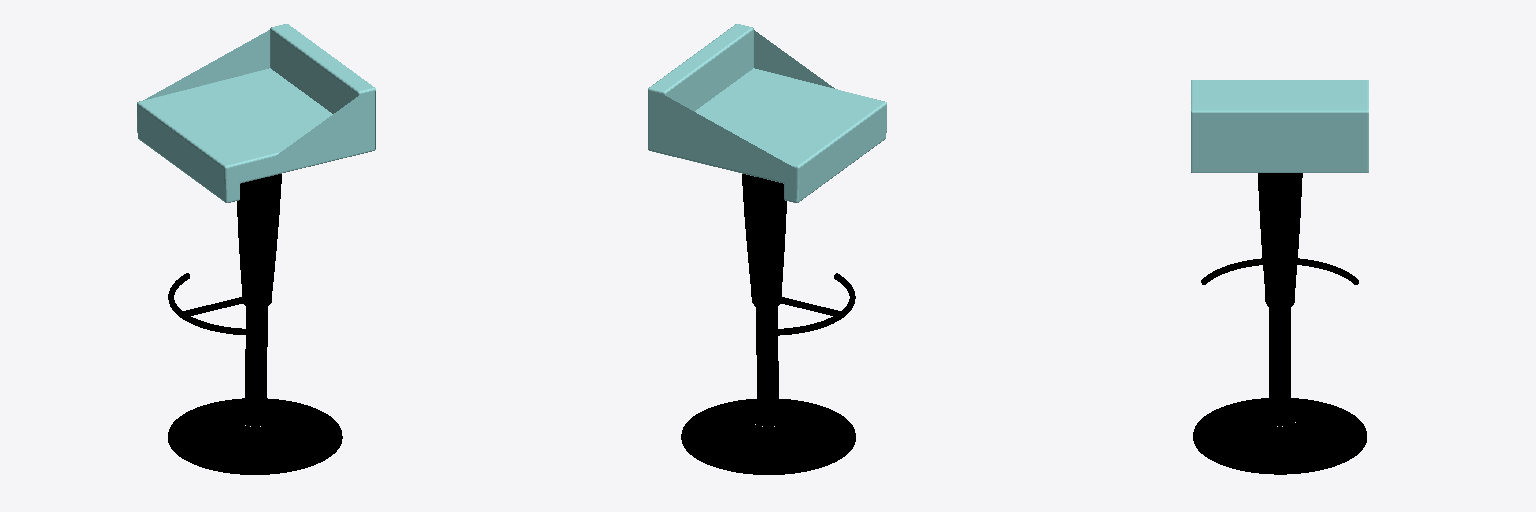
File: Bar_Stool.obj
The picture shows the model from 3 angles: view 1: azimuth 30°, elevation 25°; view 2: azimuth 150°, elevation 25°; view 3: azimuth 270°, elevation 25°; orthographic projection.
Parts seen in each view (by area): view 1: Box002, Circle035, Cylinder7208, Cylinder7211, Circle036; view 2: Box002, Circle035, Cylinder7208, Cylinder7211, Circle036; view 3: Box002, Circle035, Cylinder7208, Cylinder7211, Circle036.
Part boxes in pixels (bbox=[...]): Box002: bbox=[137, 24, 375, 202]; Circle035: bbox=[168, 398, 342, 474]; Cylinder7208: bbox=[237, 174, 281, 297]; Cylinder7211: bbox=[245, 307, 267, 415]; Circle036: bbox=[168, 273, 263, 335]; Box002: bbox=[648, 24, 886, 202]; Circle035: bbox=[681, 399, 855, 474]; Cylinder7208: bbox=[742, 174, 786, 297]; Cylinder7211: bbox=[756, 307, 778, 415]; Circle036: bbox=[759, 273, 855, 335]; Box002: bbox=[1191, 80, 1368, 172]; Circle035: bbox=[1193, 398, 1366, 474]; Cylinder7208: bbox=[1258, 173, 1302, 298]; Cylinder7211: bbox=[1269, 308, 1290, 415]; Circle036: bbox=[1203, 258, 1356, 284].
Bounding box in the file's own units: 0.3524 × 0.8031 × 0.3576.